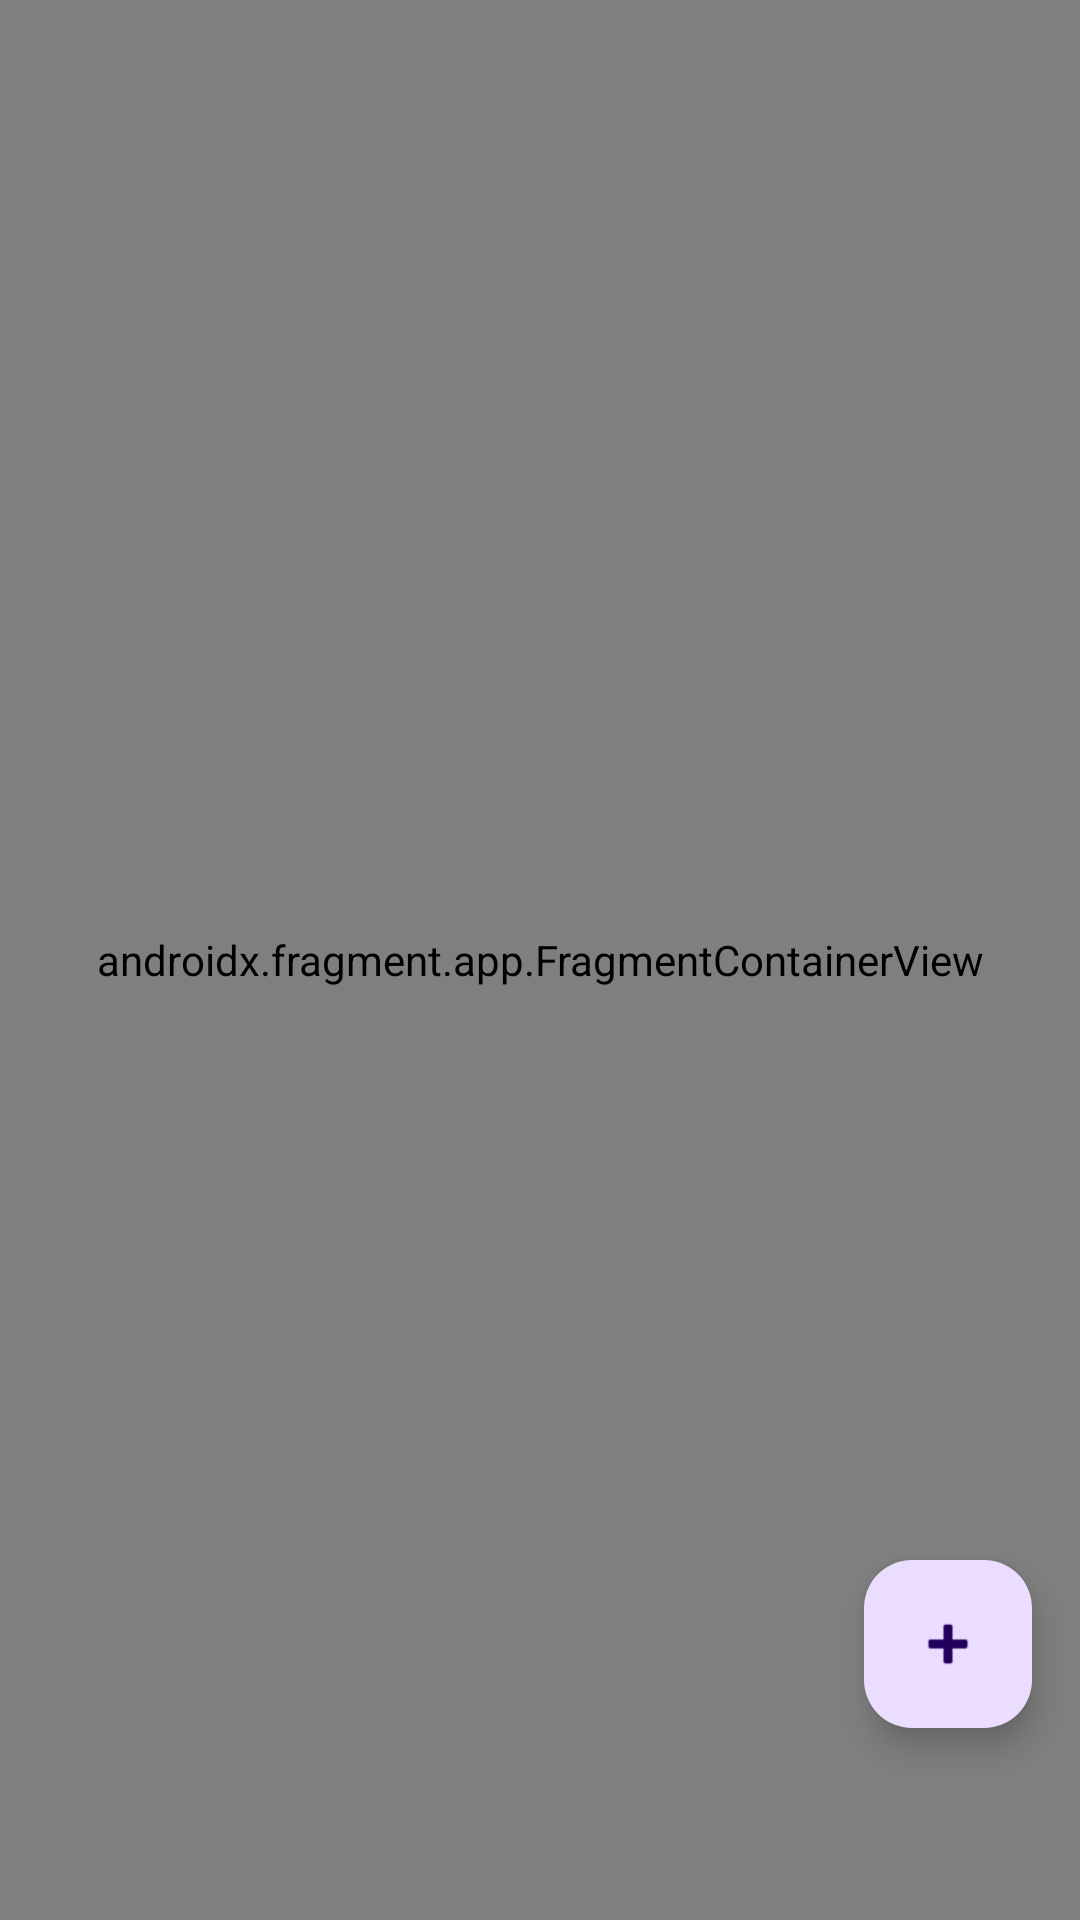

Where to tap for icons on this 1080 x 1920 app screen, as (x=x, y=y):
Button Add Story: (x=948, y=1644)
